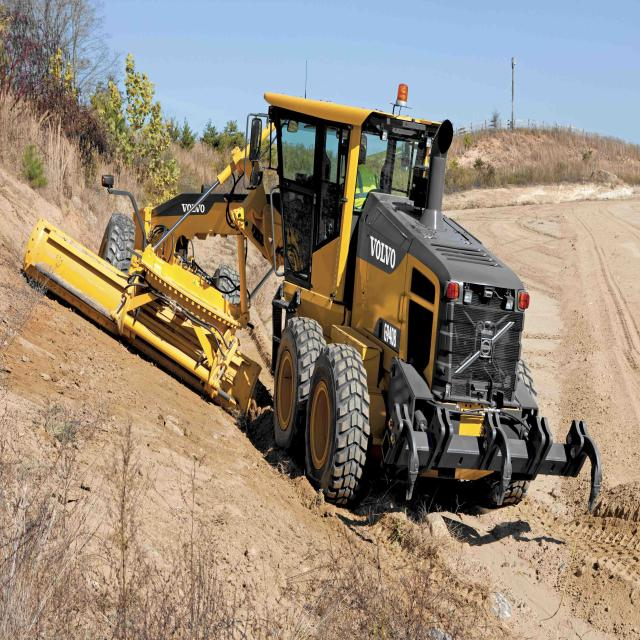buldozerpayloadergrader: (23, 77, 602, 526)
